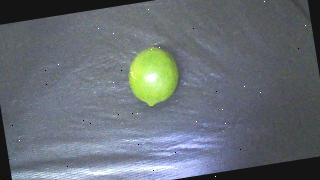LOCAL: (125, 44, 183, 109)
